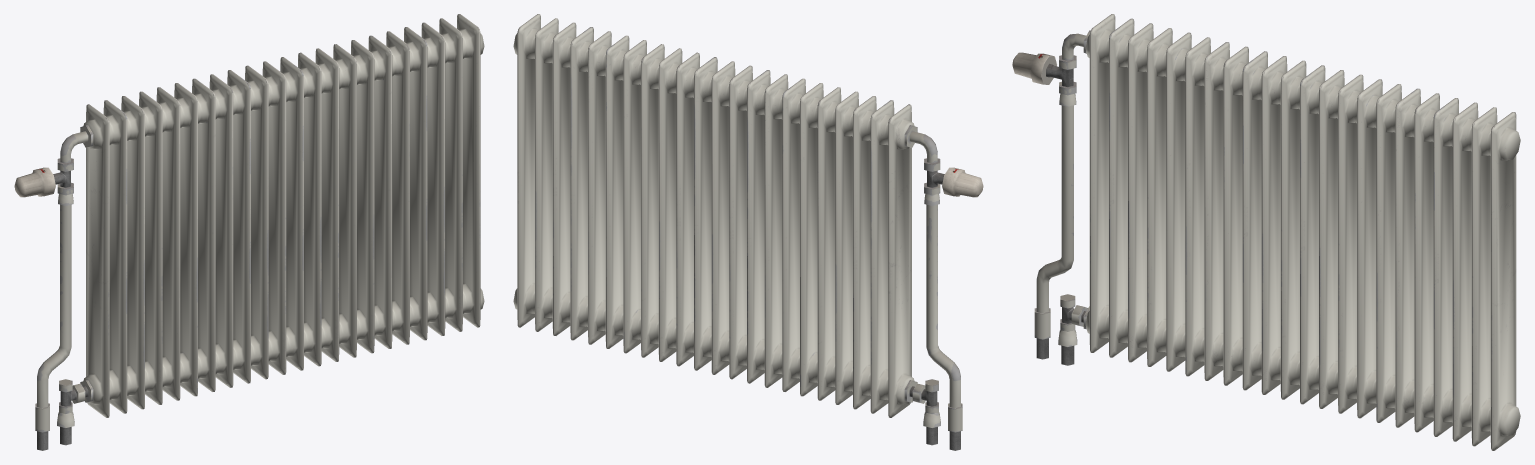
Rendered from old_radiator.glb.
3 renders of one model, left to right at view 1: azimuth 30°, elevation 25°; view 2: azimuth 150°, elevation 25°; view 3: azimuth 330°, elevation 25°, orthographic. The views are drawn at different scales.
Parts seen in each view (by area): view 1: Complete; view 2: Complete; view 3: Complete.
Boxes of the visible parts, bbox=[...] form: Complete: bbox=[14, 14, 484, 450]; Complete: bbox=[513, 14, 983, 450]; Complete: bbox=[1012, 14, 1520, 450].
Bounding box in the file's own units: 0.9093 × 0.611 × 0.0757.
Materials: 1 (1 with a texture image).
